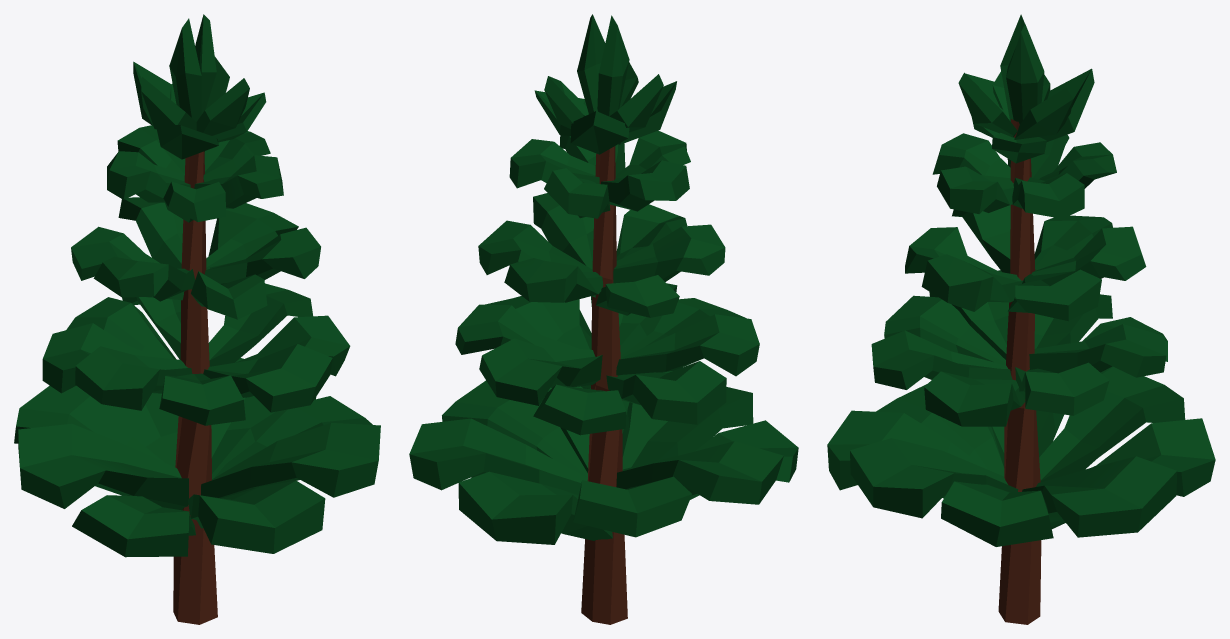
The model's file is Tree_6_Medium.fbx.
3 views of the same model, side by side, from view 1: azimuth 30°, elevation 25°; view 2: azimuth 150°, elevation 25°; view 3: azimuth 270°, elevation 25° (orthographic).
Parts seen in each view (by area): view 1: Tree_6_Medium; view 2: Tree_6_Medium; view 3: Tree_6_Medium.
Boxes of the visible parts, bbox=[...] form: Tree_6_Medium: bbox=[14, 14, 380, 624]; Tree_6_Medium: bbox=[409, 14, 798, 624]; Tree_6_Medium: bbox=[827, 14, 1215, 624].
Size of the model in its own units: 128 by 226 by 133.
